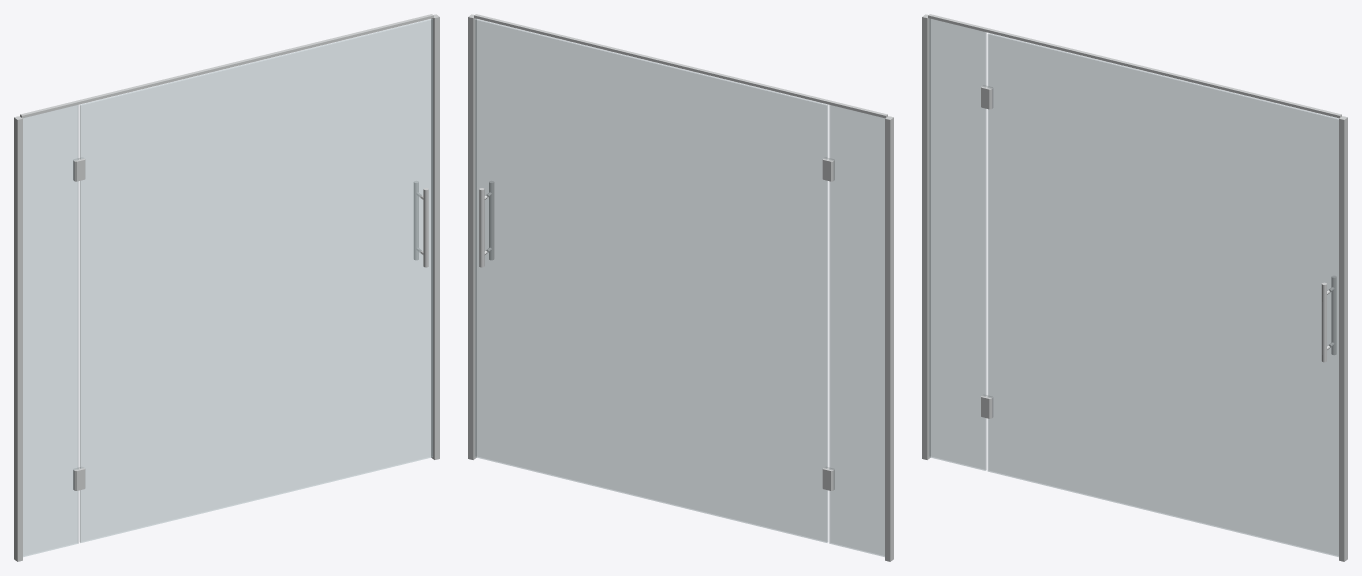
3 renders of one model, left to right at view 1: azimuth 30°, elevation 25°; view 2: azimuth 150°, elevation 25°; view 3: azimuth 330°, elevation 25°, orthographic.
Visible parts, largest first — view 1: Vách tắm kính Rộng=2000; view 2: Vách tắm kính Rộng=2000; view 3: Vách tắm kính Rộng=2000.
Boxes of the visible parts, <box> form: Vách tắm kính Rộng=2000: <box>14,14,439,561</box>; Vách tắm kính Rộng=2000: <box>468,14,893,561</box>; Vách tắm kính Rộng=2000: <box>922,14,1347,561</box>.
Bounding box in the file's own units: 2 × 2.01 × 0.102.
